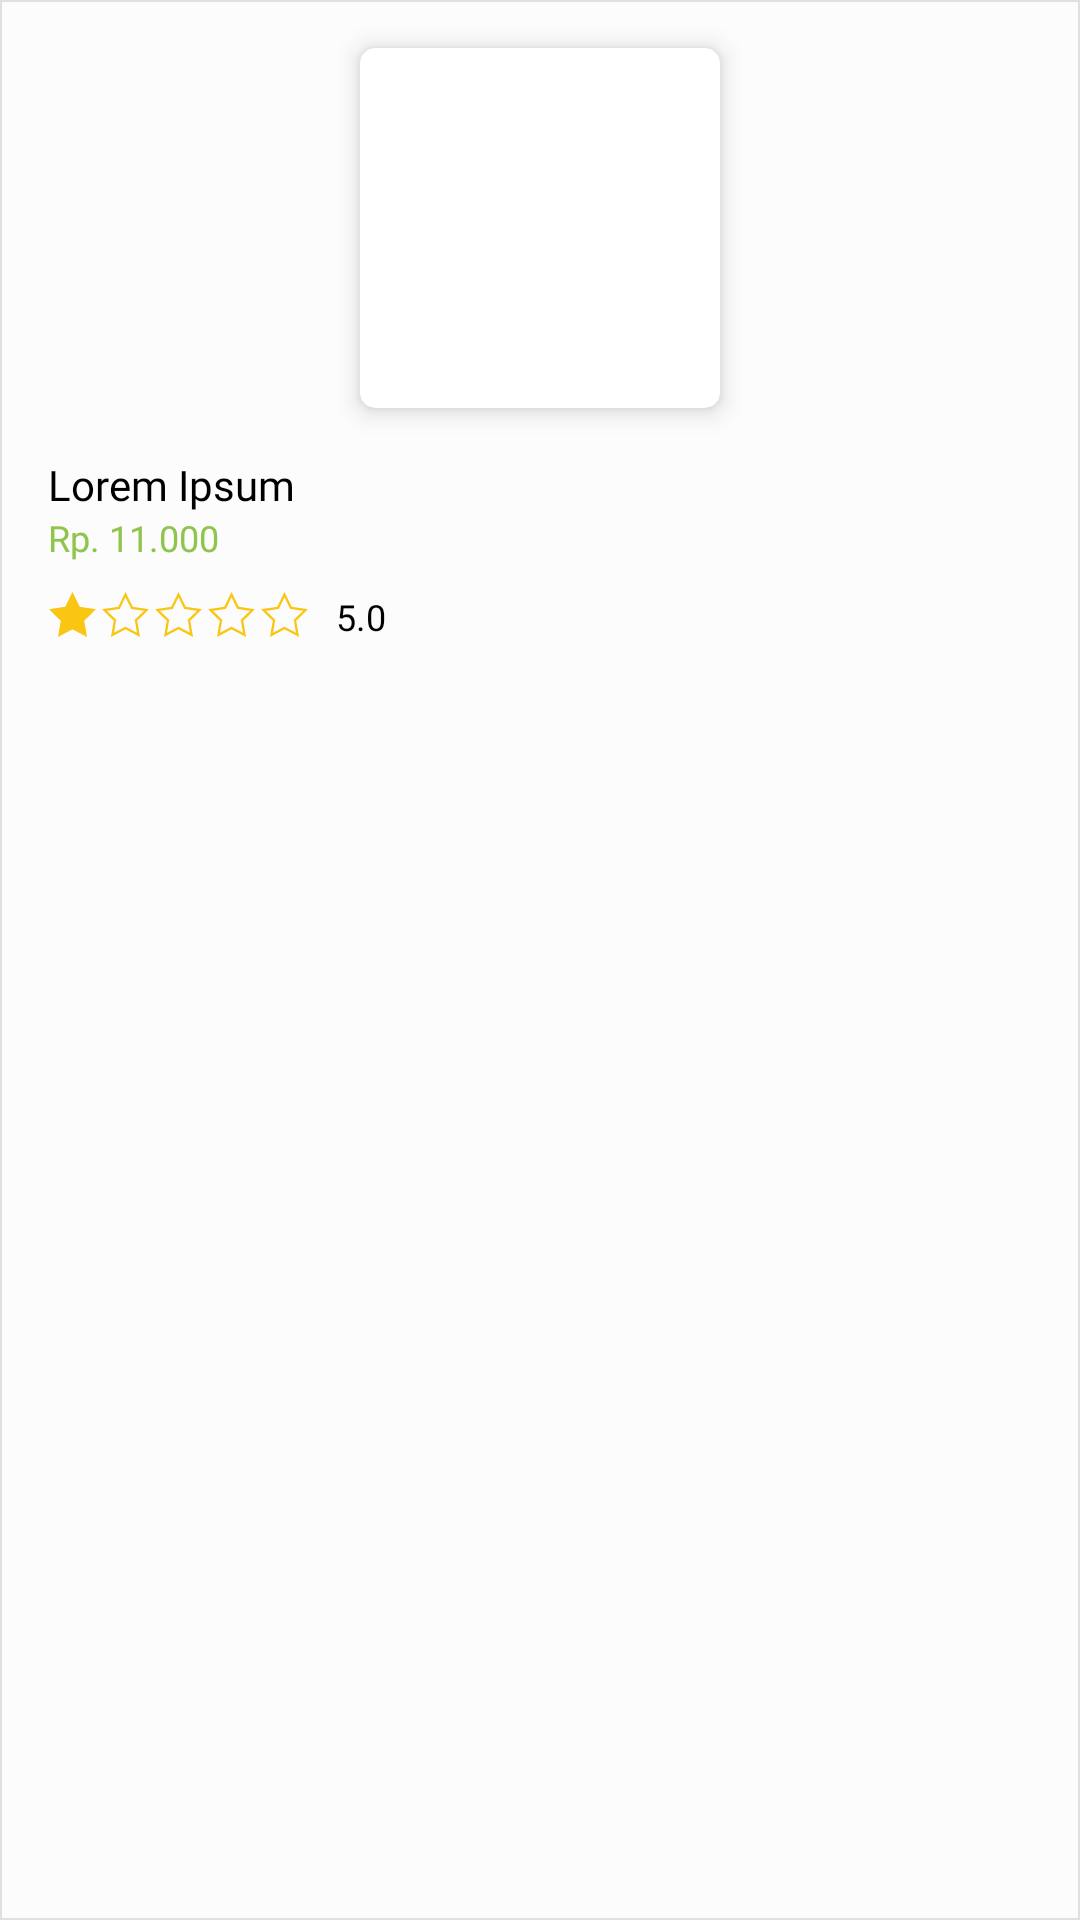

Where icons sit on this 1080w x 1920h app screen, as (x1, y1, x2, y2):
rating: (49, 592, 308, 637)
